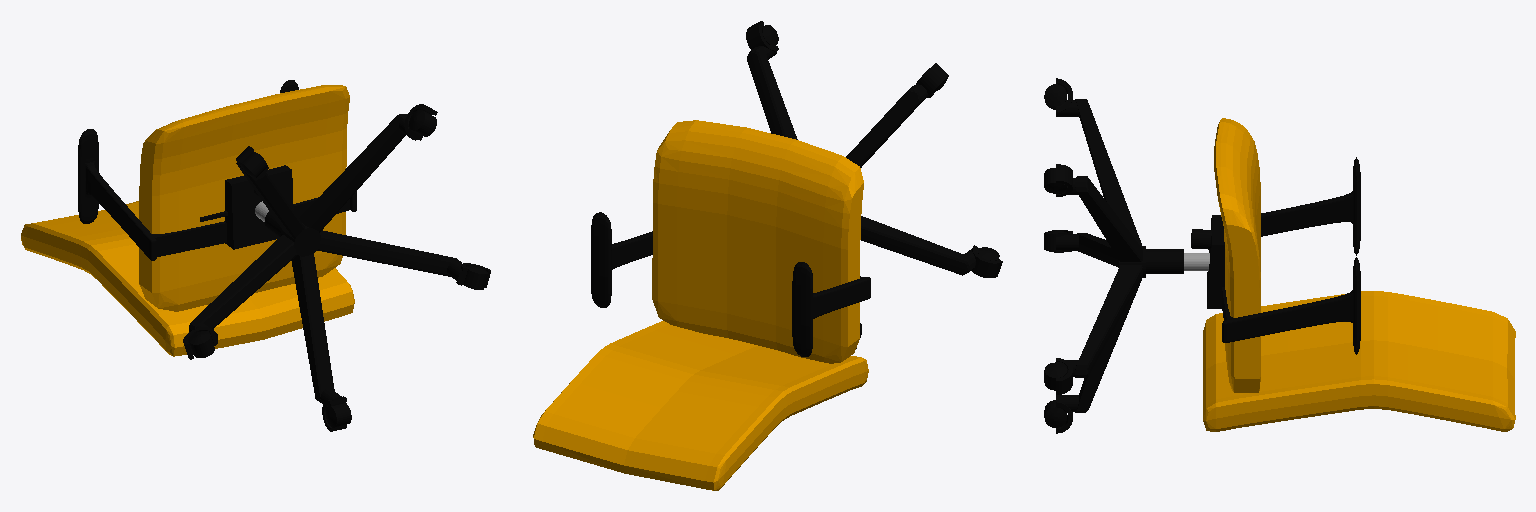
URDF robot description (415):
<robot name="415">


	<link name="0:virtual">
		<visual>
			<origin xyz="0.0 0.0 0.0" rpy="0 0 0"/>
			<geometry>
				<cylinder length="0" radius="0"/>
			</geometry>
		</visual>
	</link>


	<link name="1:static">
		<visual>
			<origin xyz="-0.0 -0.0 -0.0" rpy="0 0 0"/>
			<geometry>
				<mesh filename="../raw_data/415/part_meshes/1.dae" />
			</geometry>
		</visual>
	</link>


	<link name="2:caster 1">
		<visual>
			<origin xyz="-0.2077847160380601 -0.0572095001116395 -0.3181682594912236" rpy="0 0 0"/>
			<geometry>
				<mesh filename="../raw_data/415/part_meshes/2.dae" />
			</geometry>
		</visual>
	</link>


	<link name="3:caster 2">
		<visual>
			<origin xyz="-0.3315747126823876 -0.0572095001116395 0.07460228560211773" rpy="0 0 0"/>
			<geometry>
				<mesh filename="../raw_data/415/part_meshes/3.dae" />
			</geometry>
		</visual>
	</link>


	<link name="4:caster 3">
		<visual>
			<origin xyz="-2.800021320581436e-05 -0.0572095001116395 0.3157610832890625" rpy="0 0 0"/>
			<geometry>
				<mesh filename="../raw_data/415/part_meshes/4.dae" />
			</geometry>
		</visual>
	</link>


	<link name="5:caster 4">
		<visual>
			<origin xyz="0.33442873623509917 -0.0572095001116395 0.0756037607181542" rpy="0 0 0"/>
			<geometry>
				<mesh filename="../raw_data/415/part_meshes/5.dae" />
			</geometry>
		</visual>
	</link>


	<link name="6:armrest 1">
		<visual>
			<origin xyz="-0.2549120349442828 -0.692317008972168 -0.04525199532444149" rpy="0 0 0"/>
			<geometry>
				<mesh filename="../raw_data/415/part_meshes/6.dae" />
			</geometry>
		</visual>
	</link>


	<link name="7:armrest 2">
		<visual>
			<origin xyz="0.2631780058145523 -0.692317008972168 -0.0452519953250885" rpy="0 0 0"/>
			<geometry>
				<mesh filename="../raw_data/415/part_meshes/7.dae" />
			</geometry>
		</visual>
	</link>


	<link name="8:seat 1">
		<visual>
			<origin xyz="0.004133507609367371 -0.42576949298381805 -0.048762500286102295" rpy="0 0 0"/>
			<geometry>
				<mesh filename="../raw_data/415/part_meshes/8.dae" />
			</geometry>
		</visual>
	</link>


	<link name="9:arm 1">
		<visual>
			<origin xyz="0.1799592551584029 -0.5392480045557022 -0.04528318592656842" rpy="0 0 0"/>
			<geometry>
				<mesh filename="../raw_data/415/part_meshes/9.dae" />
			</geometry>
		</visual>
	</link>


	<link name="10:arm 2">
		<visual>
			<origin xyz="-0.17169325321862933 -0.5392480045557022 -0.04528318592656843" rpy="0 0 0"/>
			<geometry>
				<mesh filename="../raw_data/415/part_meshes/10.dae" />
			</geometry>
		</visual>
	</link>


	<link name="11:gas lift piece 1">
		<visual>
			<origin xyz="1.2000227276042028e-05 -0.2625114992260933 -0.032819999860909575" rpy="0 0 0"/>
			<geometry>
				<mesh filename="../raw_data/415/part_meshes/11.dae" />
			</geometry>
		</visual>
	</link>


	<link name="12:wheel 1">
		<visual>
			<origin xyz="-2.800021320581436e-05 -0.02501400001347065 0.33685900270938873" rpy="0 0 0"/>
			<geometry>
				<mesh filename="../raw_data/415/part_meshes/12.dae" />
			</geometry>
		</visual>
	</link>


	<link name="13:wheel 2">
		<visual>
			<origin xyz="0.35248344996652886 -0.02501400001347065 0.08145518702200931" rpy="0 0 0"/>
			<geometry>
				<mesh filename="../raw_data/415/part_meshes/13.dae" />
			</geometry>
		</visual>
	</link>


	<link name="14:wheel 3">
		<visual>
			<origin xyz="0.21789173305045575 -0.02501400001347065 -0.33187382872199733" rpy="0 0 0"/>
			<geometry>
				<mesh filename="../raw_data/415/part_meshes/14.dae" />
			</geometry>
		</visual>
	</link>


	<link name="15:wheel 4">
		<visual>
			<origin xyz="-0.35248346236645756 -0.02501400001347065 0.08137865011520483" rpy="0 0 0"/>
			<geometry>
				<mesh filename="../raw_data/415/part_meshes/15.dae" />
			</geometry>
		</visual>
	</link>


	<link name="16:wheel 5">
		<visual>
			<origin xyz="-0.21780168352934595 -0.02501400001347065 -0.33192086068789745" rpy="0 0 0"/>
			<geometry>
				<mesh filename="../raw_data/415/part_meshes/16.dae" />
			</geometry>
		</visual>
	</link>


	<link name="17:caster 5">
		<visual>
			<origin xyz="0.20558156934308197 -0.0572095001116395 -0.31497302763446827" rpy="0 0 0"/>
			<geometry>
				<mesh filename="../raw_data/415/part_meshes/17.dae" />
			</geometry>
		</visual>
	</link>


	<joint name="0:virtual::1:static" type="fixed">
		<parent link="0:virtual"/>
		<child link="1:static"/>
		<origin xyz="0.0 0.0 0.0" rpy="0 0 0"/>
	</joint>


	<joint name="0:virtual::2:caster 1_rotation" type="revolute">
		<parent link="0:virtual"/>
		<child link="2:caster 1"/>
		<origin xyz="0.2077847160380601 0.0572095001116395 0.3181682594912236" rpy="0 0 0"/>
		<limit lower="-3.141592653589793" upper="3.141592653589793" effort="10" velocity="3"/>
		<axis xyz="0.0 1.0 0.0"/>
	</joint>


	<joint name="0:virtual::3:caster 2_rotation" type="revolute">
		<parent link="0:virtual"/>
		<child link="3:caster 2"/>
		<origin xyz="0.3315747126823876 0.0572095001116395 -0.07460228560211773" rpy="0 0 0"/>
		<limit lower="-3.141592653589793" upper="3.141592653589793" effort="10" velocity="3"/>
		<axis xyz="0.0 1.0 0.0"/>
	</joint>


	<joint name="0:virtual::4:caster 3_rotation" type="revolute">
		<parent link="0:virtual"/>
		<child link="4:caster 3"/>
		<origin xyz="2.800021320581436e-05 0.0572095001116395 -0.3157610832890625" rpy="0 0 0"/>
		<limit lower="-3.141592653589793" upper="3.141592653589793" effort="10" velocity="3"/>
		<axis xyz="0.0 1.0 0.0"/>
	</joint>


	<joint name="0:virtual::5:caster 4_rotation" type="revolute">
		<parent link="0:virtual"/>
		<child link="5:caster 4"/>
		<origin xyz="-0.33442873623509917 0.0572095001116395 -0.0756037607181542" rpy="0 0 0"/>
		<limit lower="-3.141592653589793" upper="3.141592653589793" effort="10" velocity="3"/>
		<axis xyz="0.0 1.0 0.0"/>
	</joint>


	<joint name="10:arm 2::6:armrest 1_translation" type="prismatic">
		<parent link="10:arm 2"/>
		<child link="6:armrest 1"/>
		<origin xyz="0.08321878172565345 0.15306900441646576 -3.119060212693897e-05" rpy="0 0 0"/>
		<limit lower="-0.0548211544445808" upper="0.0531788455554192" effort="10" velocity="3"/>
		<axis xyz="-1.4074544721876654e-05 0.0 -0.9999999999009537"/>
	</joint>


	<joint name="9:arm 1::7:armrest 2_translation" type="prismatic">
		<parent link="9:arm 1"/>
		<child link="7:armrest 2"/>
		<origin xyz="-0.08321875065614942 0.15306900441646576 -3.119060147992181e-05" rpy="0 0 0"/>
		<limit lower="-0.0548211544445808" upper="0.0531788455554192" effort="10" velocity="3"/>
		<axis xyz="0.0 0.0 1.0"/>
	</joint>


	<joint name="11:gas lift piece 1::8:seat 1_translation" type="prismatic">
		<parent link="11:gas lift piece 1"/>
		<child link="8:seat 1"/>
		<origin xyz="-0.004121507382091329 0.16325799375772476 0.01594250042519272" rpy="0 0 0"/>
		<limit lower="-0.025691509246826172" upper="0.025691509246826172" effort="10" velocity="3"/>
		<axis xyz="0.0 1.0 0.0"/>
	</joint>


	<joint name="0:virtual::9:arm 1_translation" type="prismatic">
		<parent link="0:virtual"/>
		<child link="9:arm 1"/>
		<origin xyz="-0.1799592551584029 0.5392480045557022 0.04528318592656842" rpy="0 0 0"/>
		<limit lower="-0.0148944860696793" upper="0.0261055139303207" effort="10" velocity="3"/>
		<axis xyz="0.0 1.0 0.0"/>
	</joint>


	<joint name="0:virtual::10:arm 2_translation" type="prismatic">
		<parent link="0:virtual"/>
		<child link="10:arm 2"/>
		<origin xyz="0.17169325321862933 0.5392480045557022 0.04528318592656843" rpy="0 0 0"/>
		<limit lower="-0.0148944860696793" upper="0.0261055139303207" effort="10" velocity="3"/>
		<axis xyz="0.0 1.0 0.0"/>
	</joint>


	<joint name="0:virtual::11:gas lift piece 1_rotation" type="revolute">
		<parent link="0:virtual"/>
		<child link="11:gas lift piece 1"/>
		<origin xyz="-1.2000227276042028e-05 0.2625114992260933 0.032819999860909575" rpy="0 0 0"/>
		<limit lower="-3.141592653589793" upper="3.141592653589793" effort="10" velocity="3"/>
		<axis xyz="0.0 1.0 0.0"/>
	</joint>


	<joint name="4:caster 3::12:wheel 1_rotation" type="revolute">
		<parent link="4:caster 3"/>
		<child link="12:wheel 1"/>
		<origin xyz="0.0 -0.03219550009816885 -0.02109791942032624" rpy="0 0 0"/>
		<limit lower="-3.141592653589793" upper="3.141592653589793" effort="10" velocity="3"/>
		<axis xyz="-1.0 0.0 0.0"/>
	</joint>


	<joint name="5:caster 4::13:wheel 2_rotation" type="revolute">
		<parent link="5:caster 4"/>
		<child link="13:wheel 2"/>
		<origin xyz="-0.018054713731429695 -0.03219550009816885 -0.0058514263038551145" rpy="0 0 0"/>
		<limit lower="-3.141592653589793" upper="3.141592653589793" effort="10" velocity="3"/>
		<axis xyz="-0.30972649187843737 0.0 0.9508256939253779"/>
	</joint>


	<joint name="17:caster 5::14:wheel 3_rotation" type="revolute">
		<parent link="17:caster 5"/>
		<child link="14:wheel 3"/>
		<origin xyz="-0.012310163707373784 -0.03219550009816885 0.01690080108752906" rpy="0 0 0"/>
		<limit lower="-3.141592653589793" upper="3.141592653589793" effort="10" velocity="3"/>
		<axis xyz="-0.8097299177669051 0.0 -0.5868027439209885"/>
	</joint>


	<joint name="3:caster 2::15:wheel 4_rotation" type="revolute">
		<parent link="3:caster 2"/>
		<child link="15:wheel 4"/>
		<origin xyz="0.02090874968406997 -0.03219550009816885 -0.006776364513087094" rpy="0 0 0"/>
		<limit lower="-3.141592653589793" upper="3.141592653589793" effort="10" velocity="3"/>
		<axis xyz="0.3097342448150943 0.0 0.9508231684118889"/>
	</joint>


	<joint name="2:caster 1::16:wheel 5_rotation" type="revolute">
		<parent link="2:caster 1"/>
		<child link="16:wheel 5"/>
		<origin xyz="0.01001696749128586 -0.03219550009816885 0.01375260119667382" rpy="0 0 0"/>
		<limit lower="-3.141592653589793" upper="3.141592653589793" effort="10" velocity="3"/>
		<axis xyz="-0.8097299177669051 0.0 0.5868027439209885"/>
	</joint>


	<joint name="0:virtual::17:caster 5_rotation" type="revolute">
		<parent link="0:virtual"/>
		<child link="17:caster 5"/>
		<origin xyz="-0.20558156934308197 0.0572095001116395 0.31497302763446827" rpy="0 0 0"/>
		<limit lower="-3.141592653589793" upper="3.141592653589793" effort="10" velocity="3"/>
		<axis xyz="0.0 1.0 0.0"/>
	</joint>


</robot>

--- What the picture shows (computed from the rendered views, not written in the file) ---
The picture shows the robot from 3 angles, left to right: view 1: azimuth 30°, elevation 25°; view 2: azimuth 150°, elevation 25°; view 3: azimuth 270°, elevation 25°; orthographic projection.
Model 415 with 18 links and 17 joints (11 revolute, 5 prismatic, 1 fixed), rooted at 0:virtual, posed all joints at 0.
Visible links, largest first — view 1: 8:seat 1, 1:static, 9:arm 1, 11:gas lift piece 1, 10:arm 2, 16:wheel 5, 13:wheel 2; view 2: 8:seat 1, 1:static, 7:armrest 2, 6:armrest 1, 9:arm 1, 10:arm 2, 5:caster 4, 17:caster 5, 2:caster 1; view 3: 8:seat 1, 1:static, 10:arm 2, 11:gas lift piece 1, 9:arm 1.
Link boxes in pixels (bbox=[...]): 8:seat 1: bbox=[21, 85, 354, 356]; 1:static: bbox=[189, 114, 461, 403]; 9:arm 1: bbox=[78, 129, 226, 260]; 11:gas lift piece 1: bbox=[200, 165, 293, 249]; 10:arm 2: bbox=[280, 80, 356, 217]; 16:wheel 5: bbox=[409, 110, 436, 136]; 13:wheel 2: bbox=[189, 331, 214, 357]; 8:seat 1: bbox=[533, 120, 868, 490]; 1:static: bbox=[747, 47, 974, 275]; 7:armrest 2: bbox=[792, 262, 812, 356]; 6:armrest 1: bbox=[591, 212, 610, 307]; 9:arm 1: bbox=[812, 273, 870, 318]; 10:arm 2: bbox=[610, 222, 652, 295]; 5:caster 4: bbox=[964, 245, 1002, 277]; 17:caster 5: bbox=[916, 63, 948, 97]; 2:caster 1: bbox=[746, 21, 778, 59]; 8:seat 1: bbox=[1203, 118, 1515, 431]; 1:static: bbox=[1075, 99, 1145, 412]; 10:arm 2: bbox=[1222, 258, 1356, 353]; 11:gas lift piece 1: bbox=[1146, 215, 1224, 308]; 9:arm 1: bbox=[1261, 159, 1356, 253].
Size in the robot's own frame: 0.7903 by 1.04 by 0.7497 metres.
17 mesh visuals loaded from 17 distinct referenced files (17 Collada DAE).